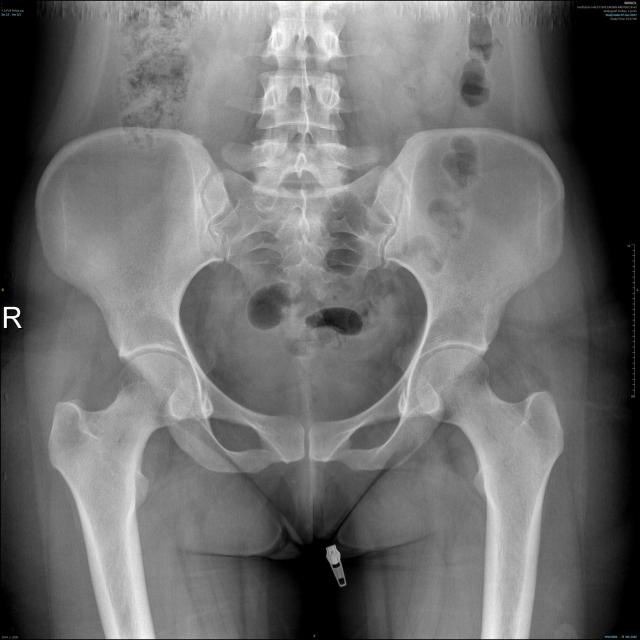normal-left: (416, 349, 565, 580)
normal-right: (48, 352, 194, 581)
